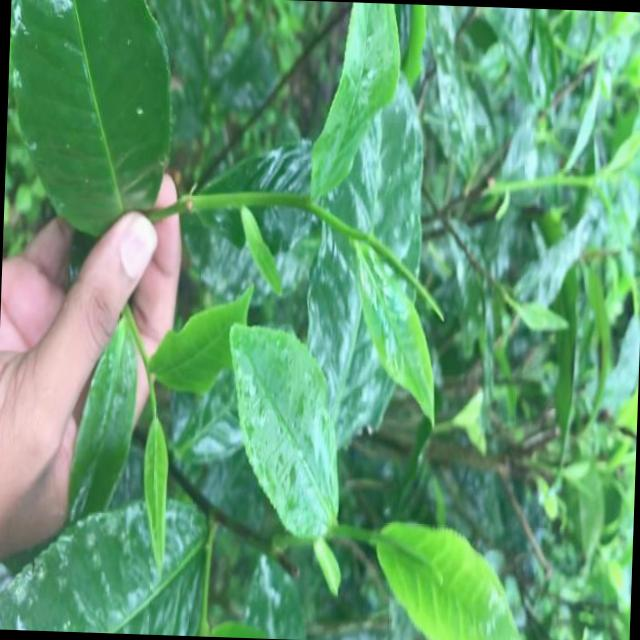Stem: (284, 193, 308, 206), (582, 177, 592, 184)
